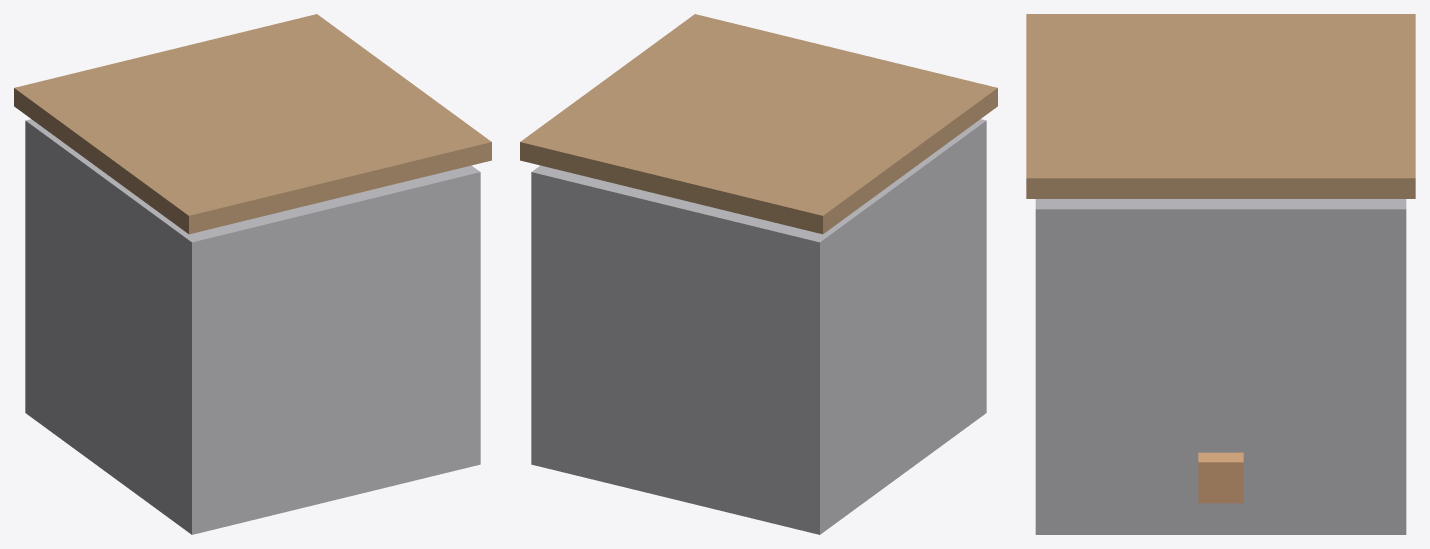
Rendered from Prop_Water_AMF_Cistern_V3.glb.
3 renders of one model, left to right at view 1: azimuth 30°, elevation 25°; view 2: azimuth 150°, elevation 25°; view 3: azimuth 270°, elevation 25°, orthographic. The views are drawn at different scales.
Parts seen in each view (by area): view 1: Prop_Water_AMF_Cistern_V3; view 2: Prop_Water_AMF_Cistern_V3; view 3: Prop_Water_AMF_Cistern_V3.
Boxes of the visible parts, bbox=[...] form: Prop_Water_AMF_Cistern_V3: bbox=[14, 14, 491, 534]; Prop_Water_AMF_Cistern_V3: bbox=[520, 14, 997, 534]; Prop_Water_AMF_Cistern_V3: bbox=[1026, 14, 1415, 534].
Bounding box in the file's own units: 1.77 × 1.75 × 1.71.
